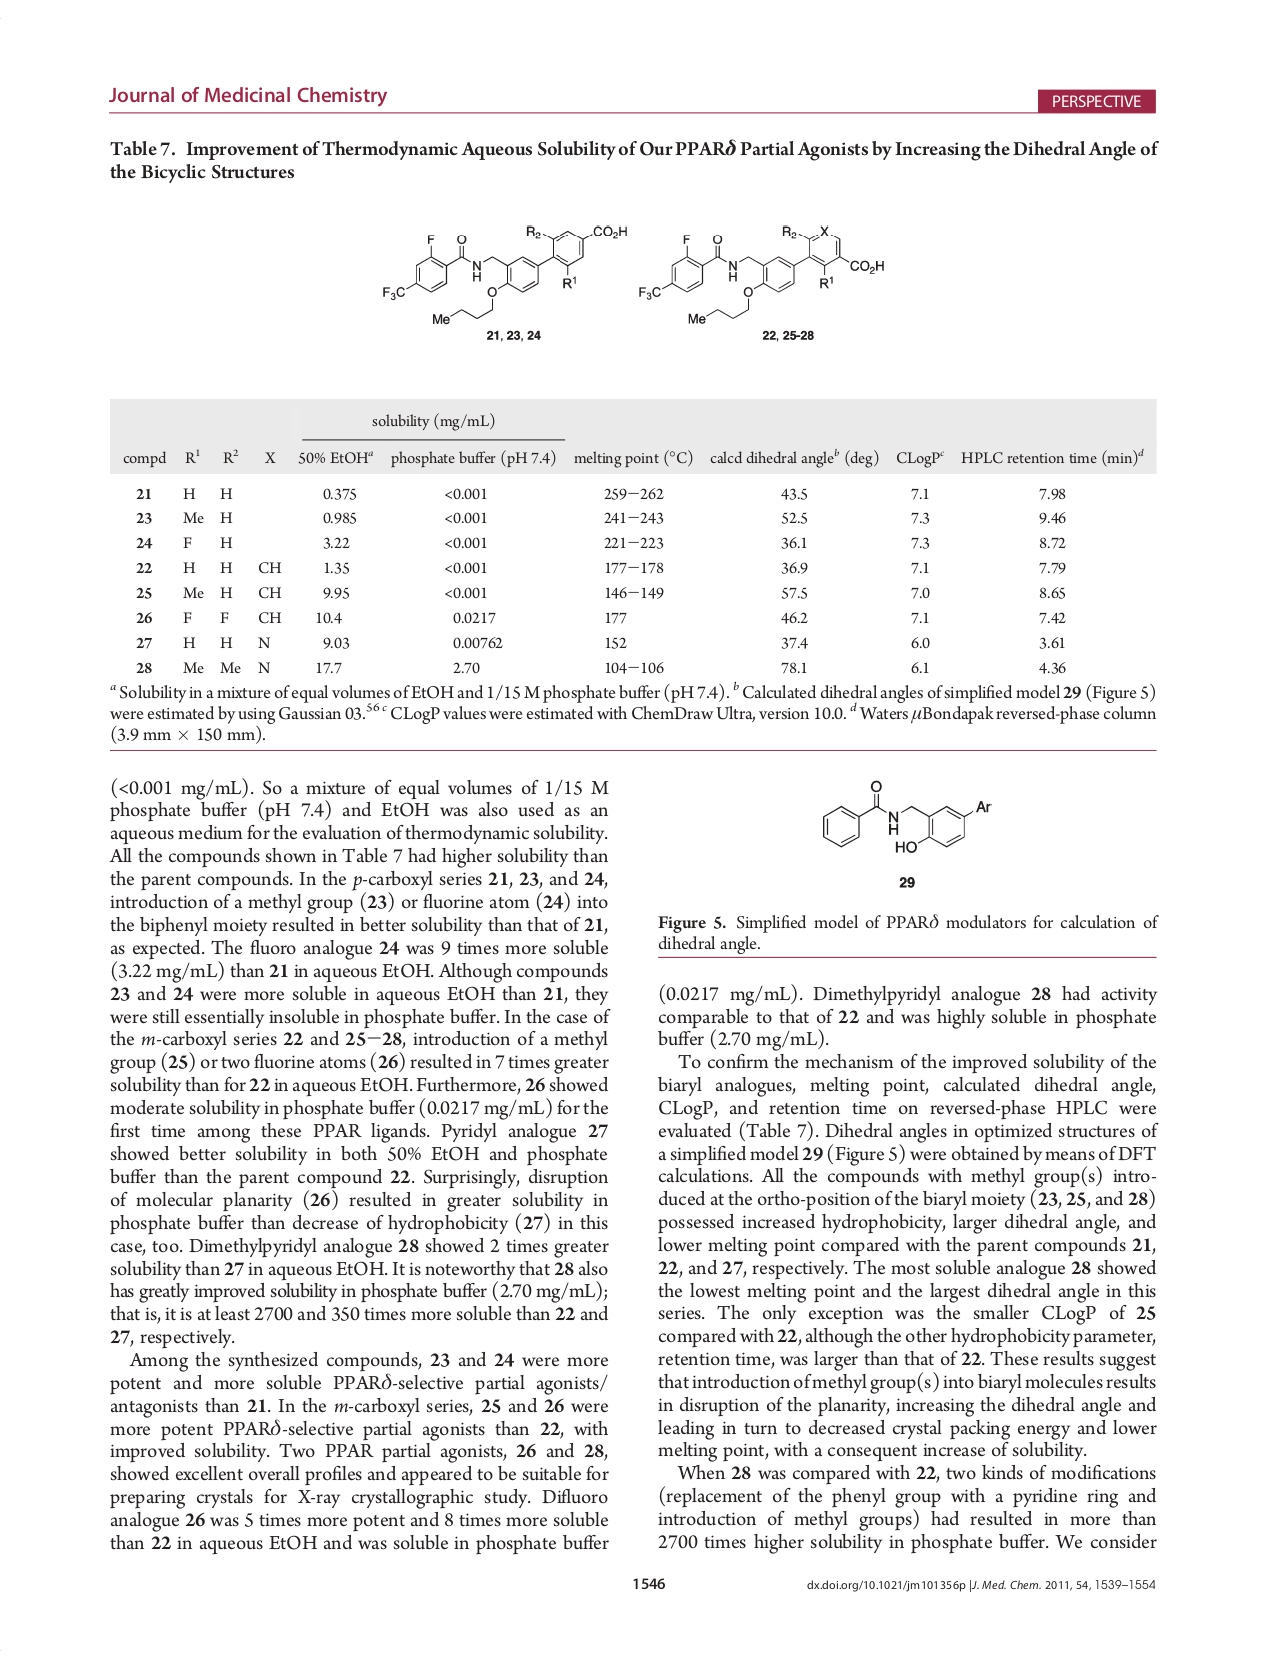exist_molecular: (372, 222, 629, 328), (636, 221, 887, 326), (818, 777, 993, 860)
